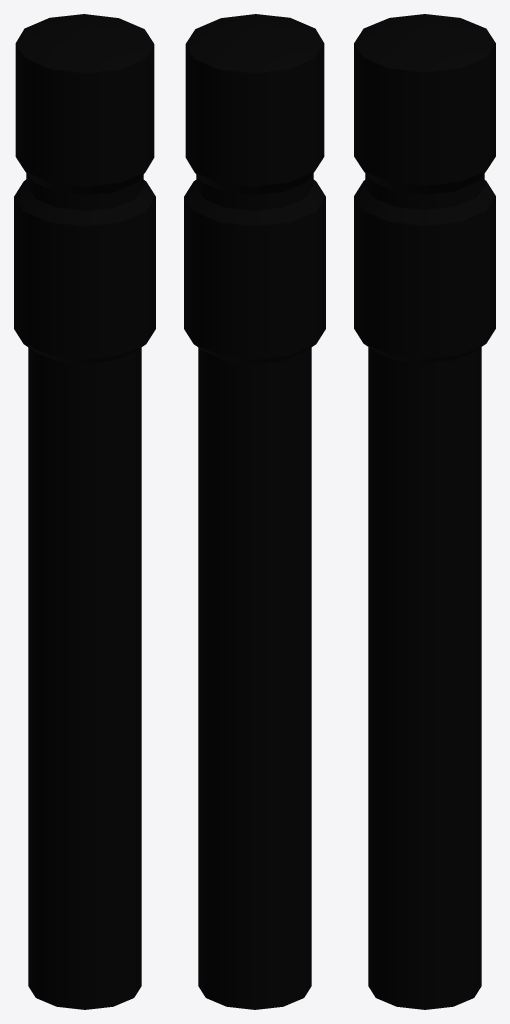
3 renders of one model, left to right at view 1: azimuth 30°, elevation 25°; view 2: azimuth 150°, elevation 25°; view 3: azimuth 270°, elevation 25°, orthographic.
Parts seen in each view (by area): view 1: Joint_0_Object_0; view 2: Joint_0_Object_0; view 3: Joint_0_Object_0.
Part boxes in pixels (x1,y1,x2,y2): Joint_0_Object_0: [14, 14, 155, 1009]; Joint_0_Object_0: [184, 14, 325, 1009]; Joint_0_Object_0: [354, 14, 495, 1009].
Bounding box in the file's own units: 250 × 1867 × 250.
Materials: 1 (1 with a texture image).
